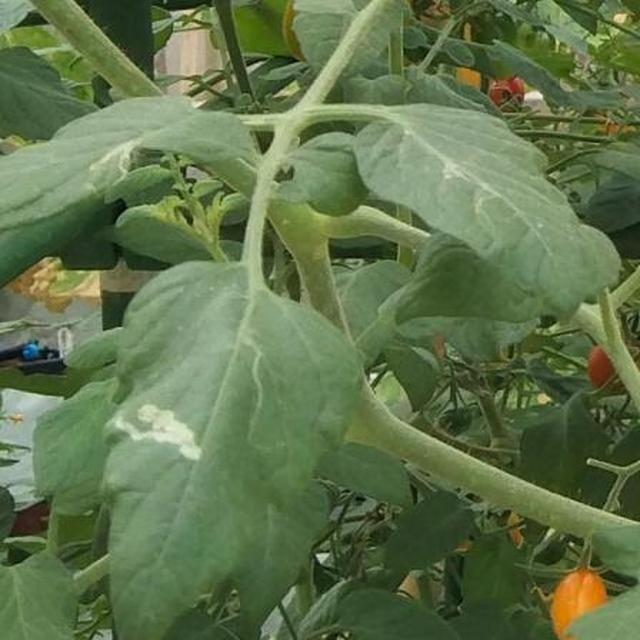Leaf Miner: (137, 370, 522, 640)
